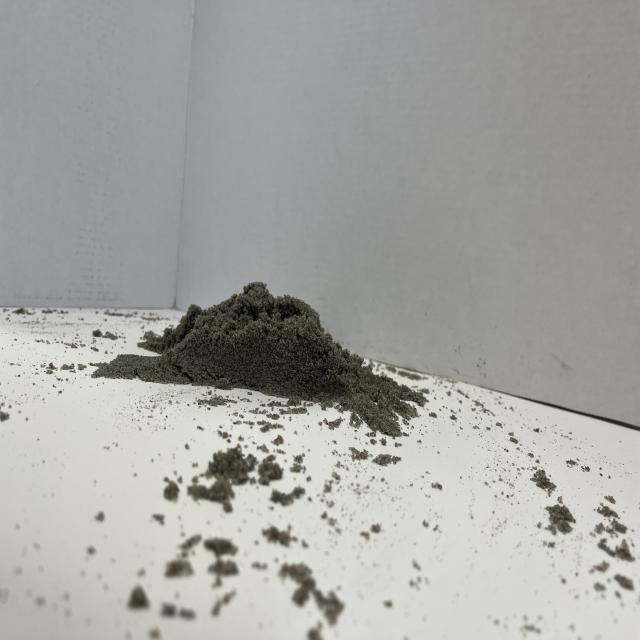sand: (90, 245, 422, 452)
